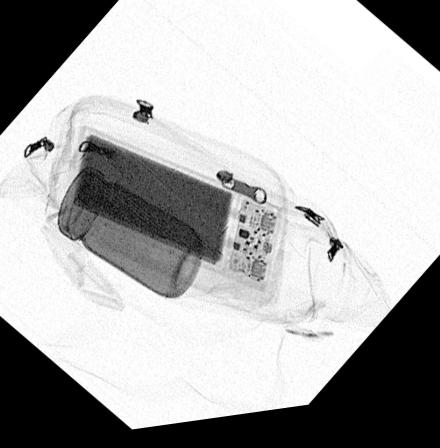Powerbank: (68, 126, 281, 300)
